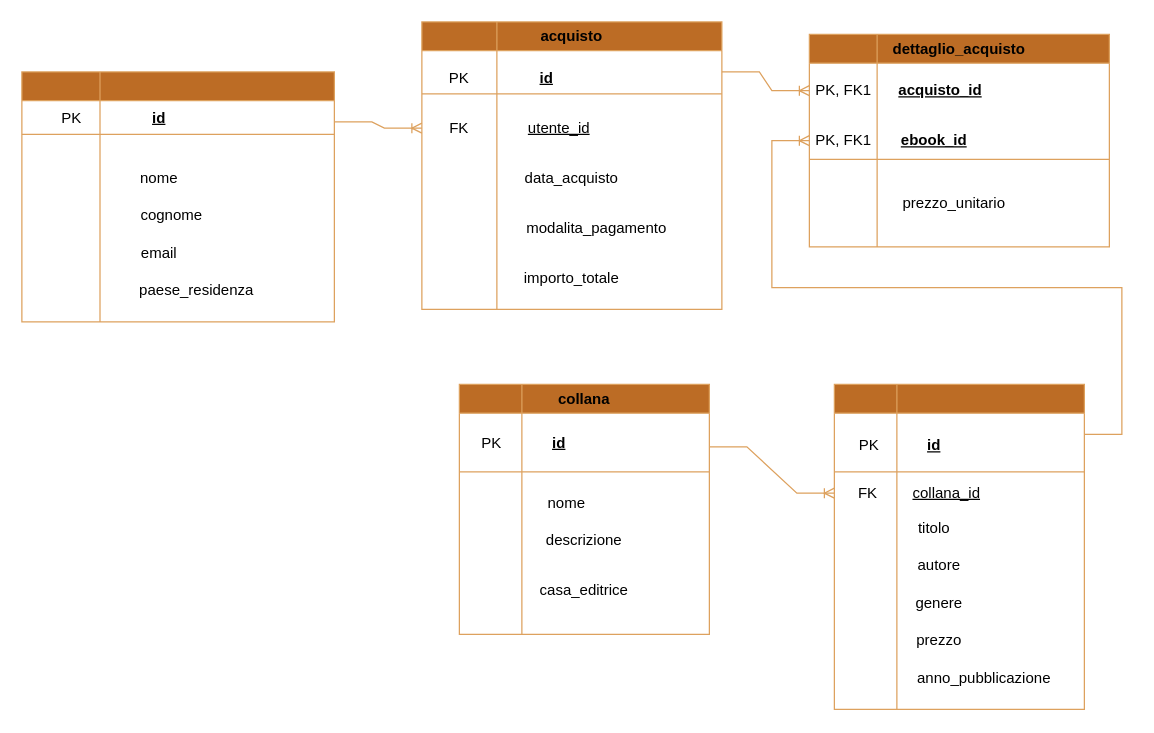
The diagram is 1154 pixels wide and 733 high, and some of its shapes have lost their labels. The shapes that lost their labels are listed below. From the top down, each one's box as (x1, y1, x2, y2) in pixels, then its label:
(21, 71, 334, 322): utente
(833, 383, 1084, 709): ebook
